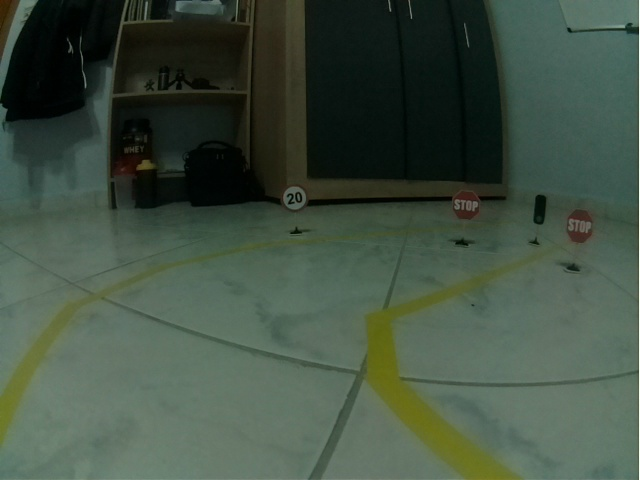Green Traffic Light: (533, 194, 547, 225)
Speed Limit 20: (281, 184, 308, 213)
Stop: (566, 209, 594, 245), (452, 189, 481, 221)
